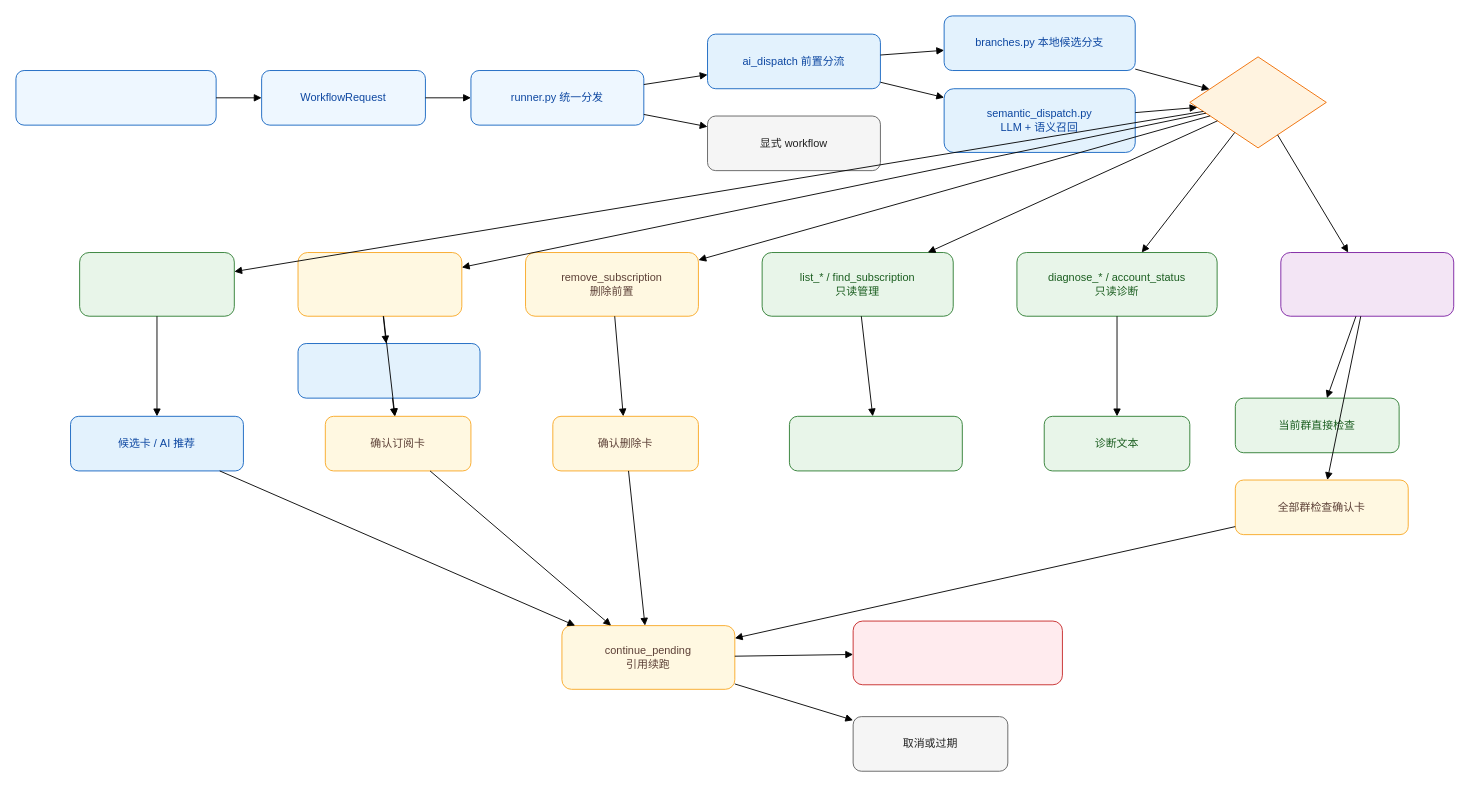
This 1470x787 diagram has some shape labels left out. The shapes that lost their labels are listed below. From the top down, each one's centre as x and y in pixels, then its label:
point (115, 97): 用户自然语言 / 命令 / LLM tool
point (1257, 102): 选择受控分支
point (156, 284): search_up 只读搜索
point (379, 284): add_subscription 添加前置
point (1367, 284): check_live_* 请求型检查
point (388, 370): 跨会话共享证据 多群一致且无冲突
point (875, 443): 订阅列表卡 / 账号卡
point (957, 652): 确认后写库 / 删除 / 执行检查
